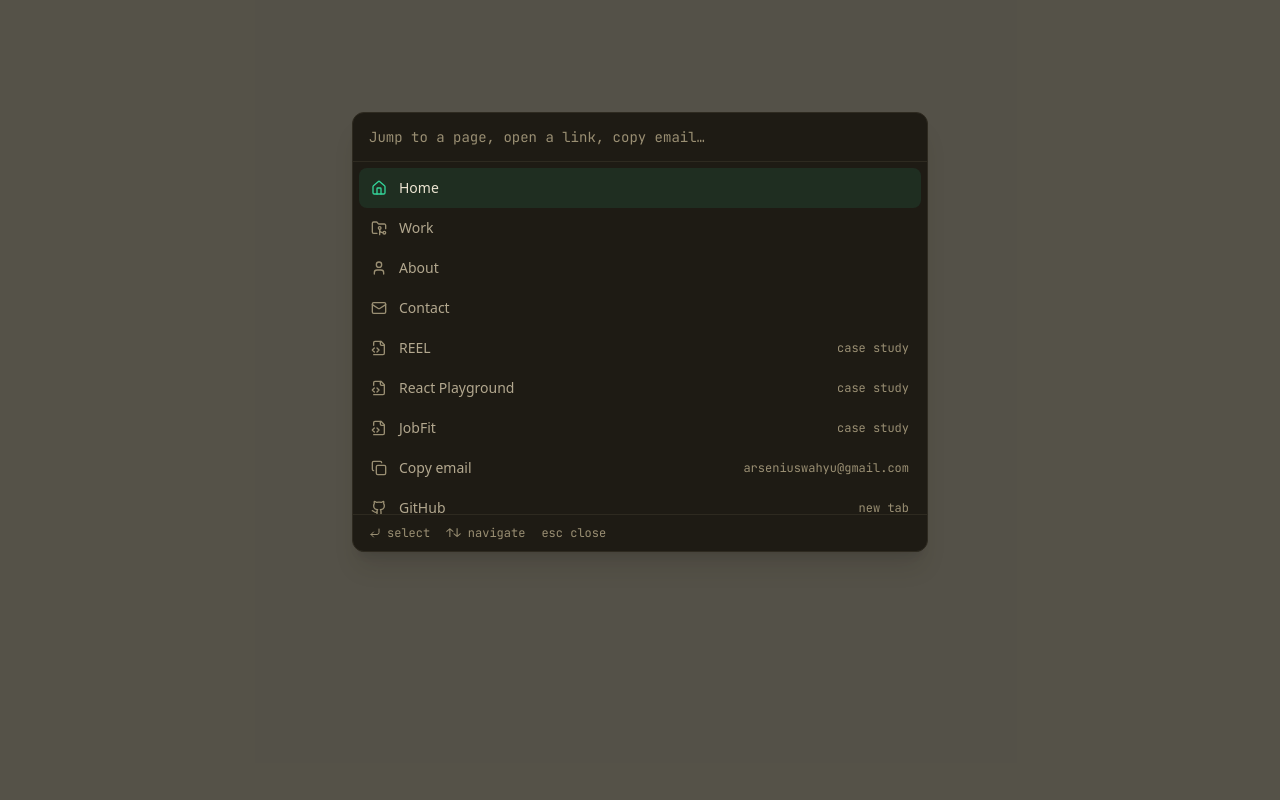
CommandPalette › shows a no-matches row for an unknown query
In the dropdown: coordinates (640, 138) [353, 113, 927, 162], type "zzzznope"
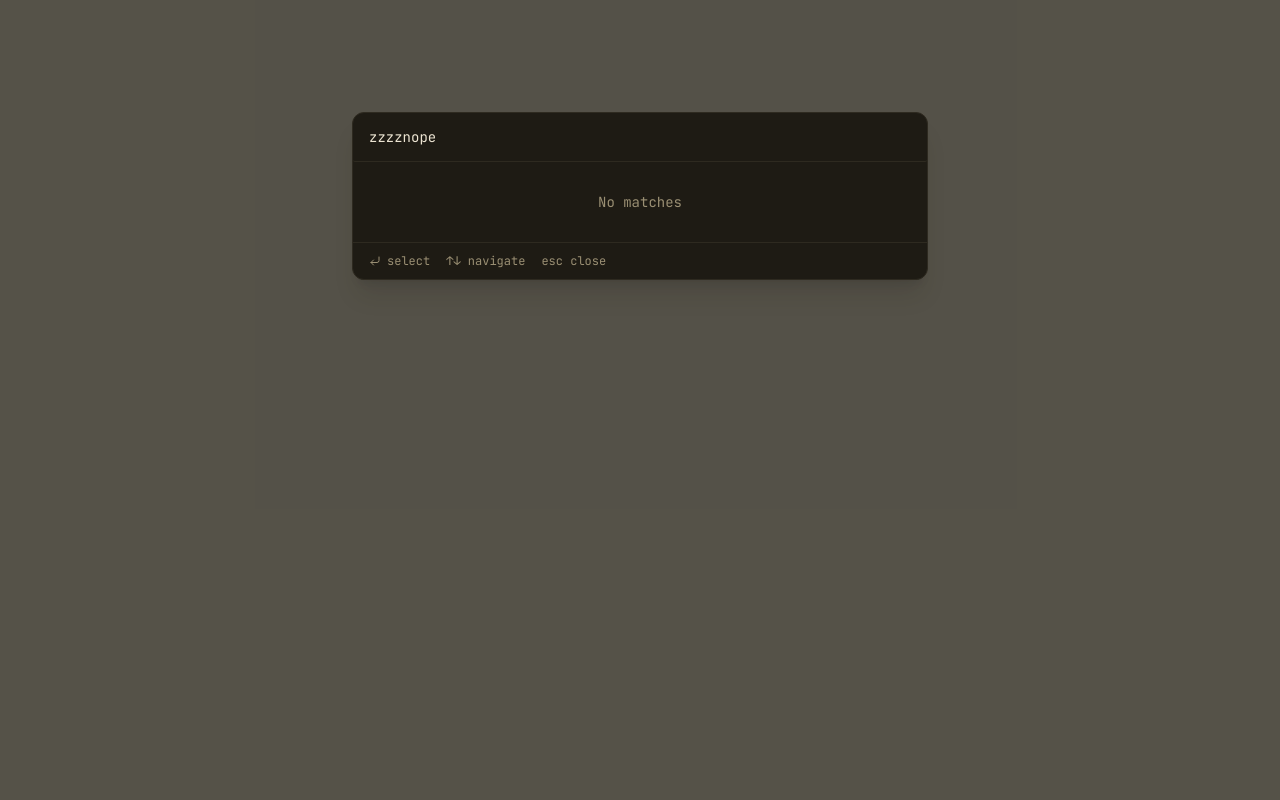
Now no options are shown
Now the list item "No matches" is shown, box [598, 193, 682, 211]
